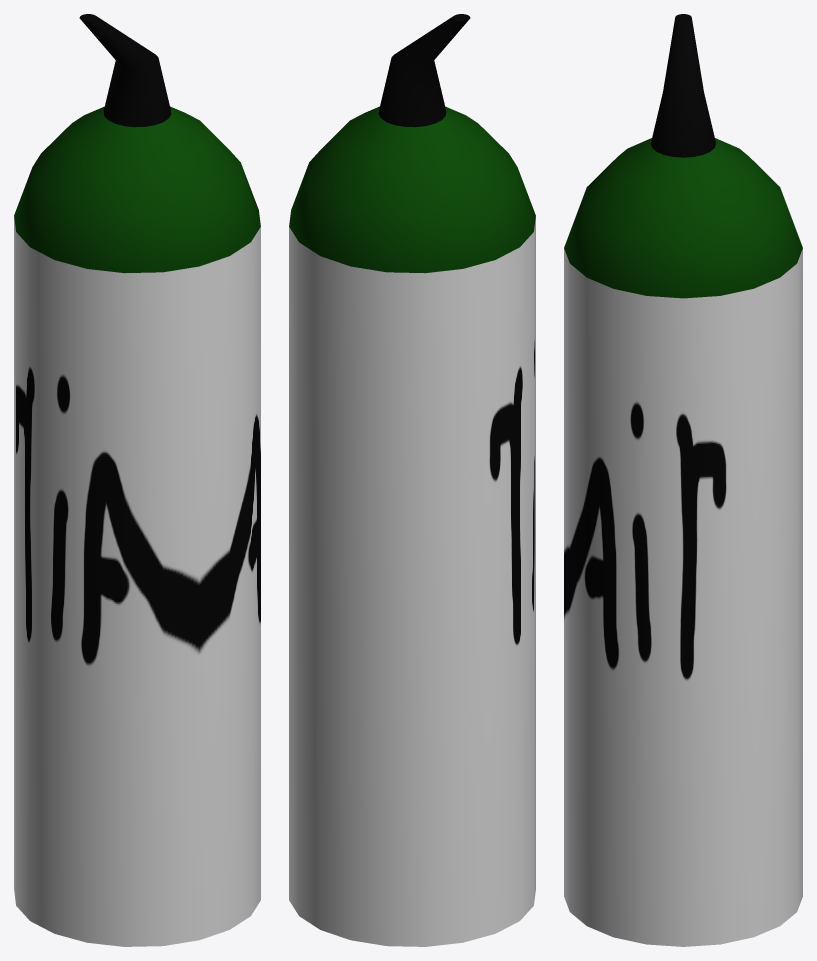
Rendered from Air_tank.fbx.
3 renders of one model, left to right at view 1: azimuth 30°, elevation 25°; view 2: azimuth 150°, elevation 25°; view 3: azimuth 270°, elevation 25°, orthographic. The views are drawn at different scales.
Visible parts, largest first — view 1: pCylinder1; view 2: pCylinder1; view 3: pCylinder1.
Part boxes in pixels (x1,y1,x2,y2): pCylinder1: (14, 14, 260, 946); pCylinder1: (289, 14, 535, 946); pCylinder1: (564, 14, 802, 946).
Bounding box in the file's own units: 0.6678 × 2.64 × 0.6678.
1 material, 1 textured.
